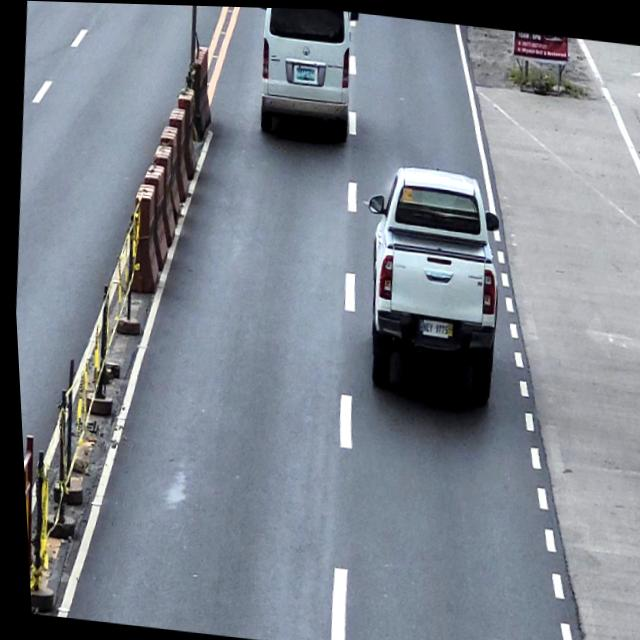Car: (348, 156, 509, 404), (248, 6, 363, 141)
License-Plate: (416, 314, 447, 337), (293, 63, 316, 80)
